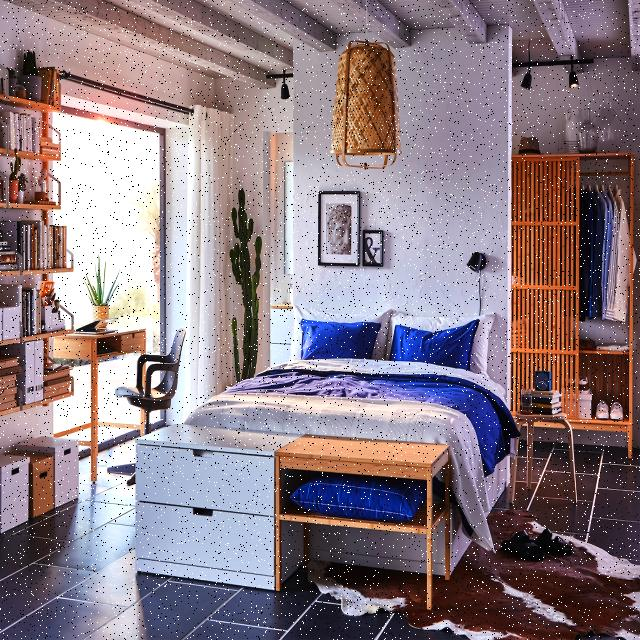bed: (182, 302, 512, 431)
